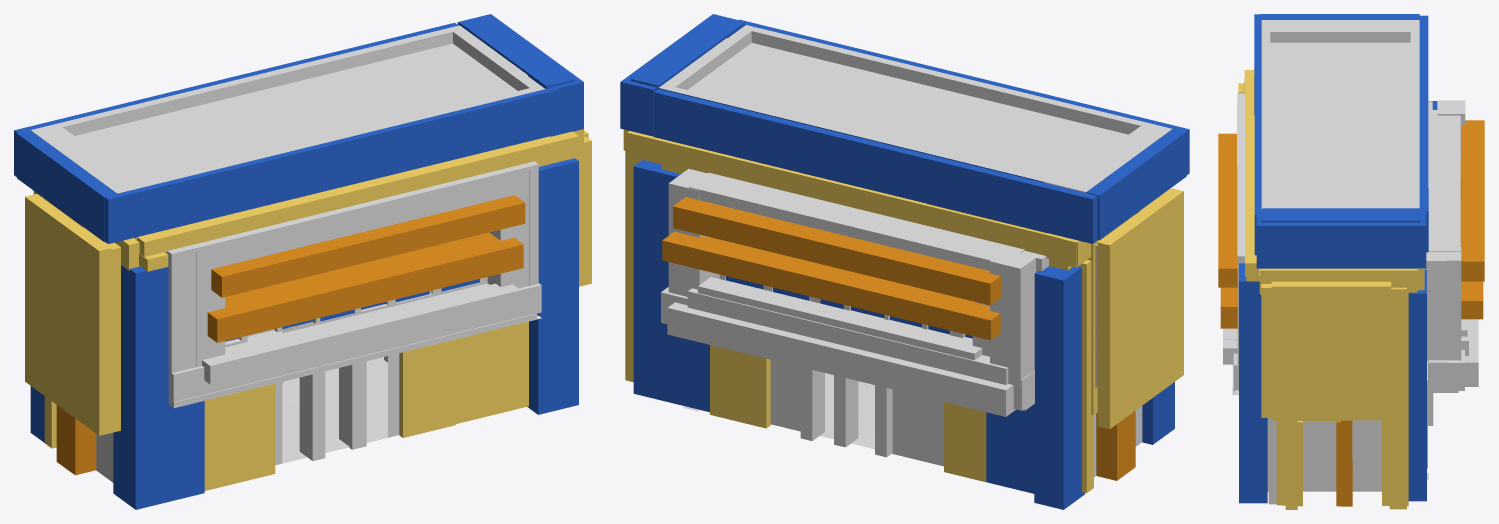
The model's file is Building9th.glb.
The picture shows the model from 3 angles, left to right: view 1: azimuth 30°, elevation 25°; view 2: azimuth 150°, elevation 25°; view 3: azimuth 270°, elevation 25°; orthographic projection. The views are drawn at different scales.
Visible parts, largest first — view 1: Cube.200; view 2: Cube.200; view 3: Cube.200.
Part boxes in pixels (x1=…): Cube.200: x1=14, y1=14, x2=591, y2=509; Cube.200: x1=620, y1=14, x2=1189, y2=509; Cube.200: x1=1218, y1=14, x2=1484, y2=509.
Size of the model in its own units: 4.35 by 2.68 by 2.24.
